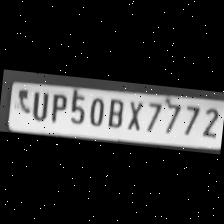0: (86, 94, 106, 128)
2: (197, 104, 222, 140)
5: (65, 92, 87, 126)
7: (158, 100, 181, 136), (177, 102, 200, 138), (142, 98, 162, 134)
B: (104, 96, 126, 130)
P: (45, 90, 67, 124)
U: (29, 89, 50, 122)
X: (124, 98, 146, 133)
